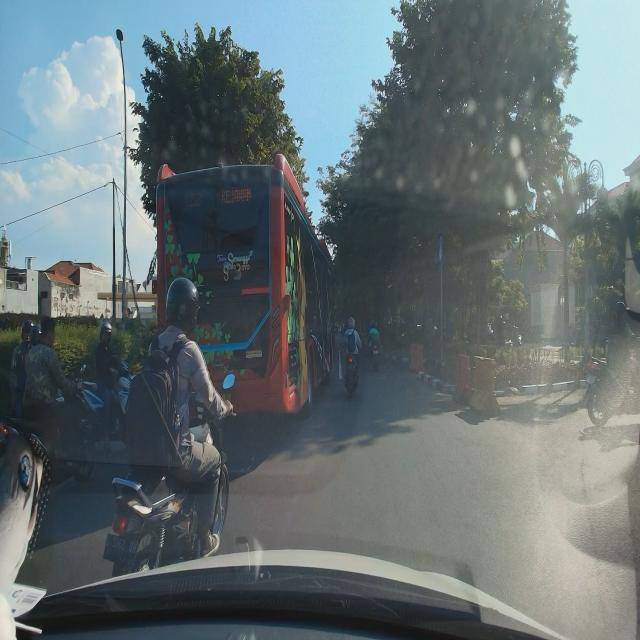bus: (155, 154, 334, 418)
